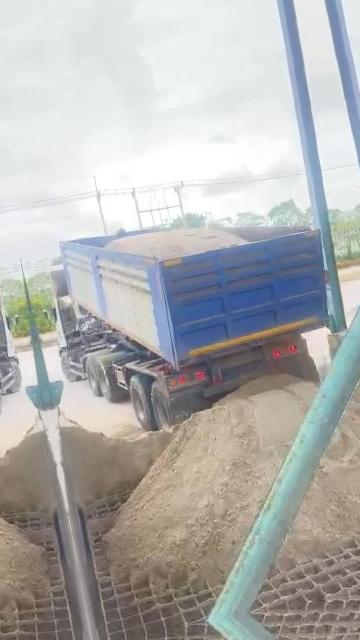sand: (106, 375, 315, 587), (279, 402, 360, 564), (60, 417, 172, 507), (108, 228, 247, 260)
